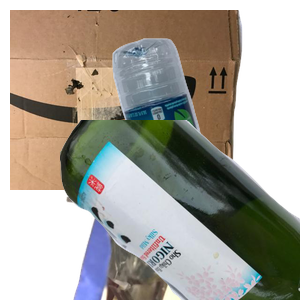cardboard: (10, 10, 245, 190)
glass: (60, 120, 300, 300)
plastic: (110, 36, 300, 216)
trash: (63, 120, 300, 300)
